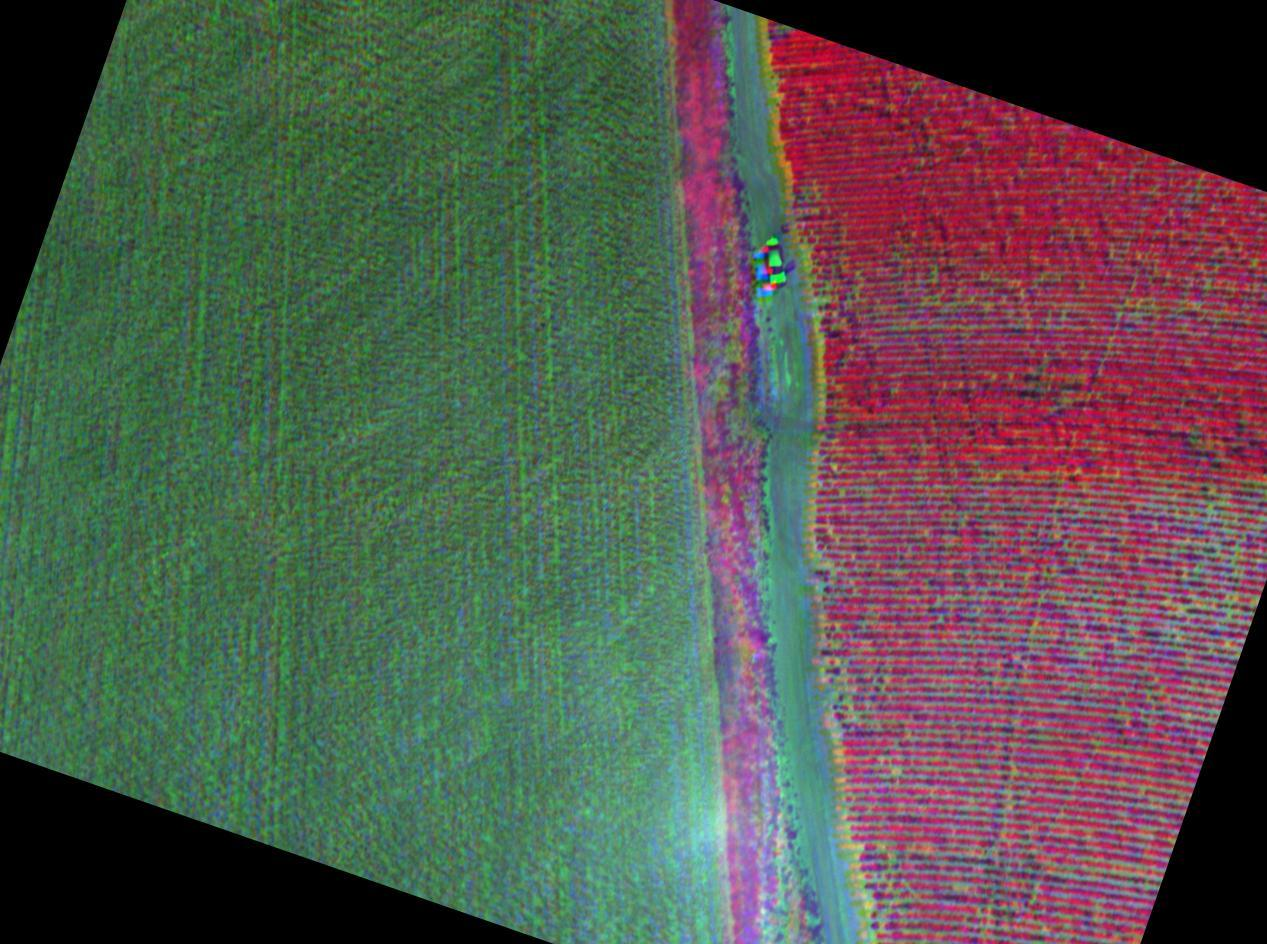dc: (1170, 497, 1255, 597), (826, 611, 895, 732), (1035, 578, 1113, 664), (1148, 617, 1217, 691), (854, 834, 914, 915)
